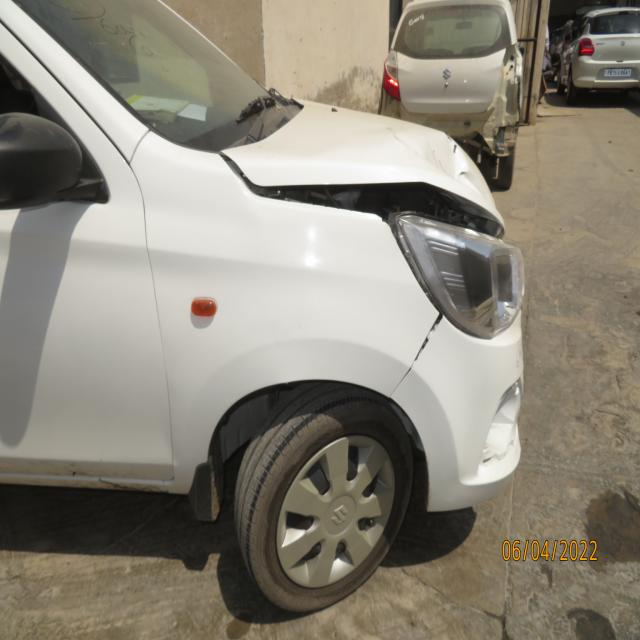damage: (395, 120, 500, 231), (479, 375, 524, 471), (401, 309, 448, 381)
